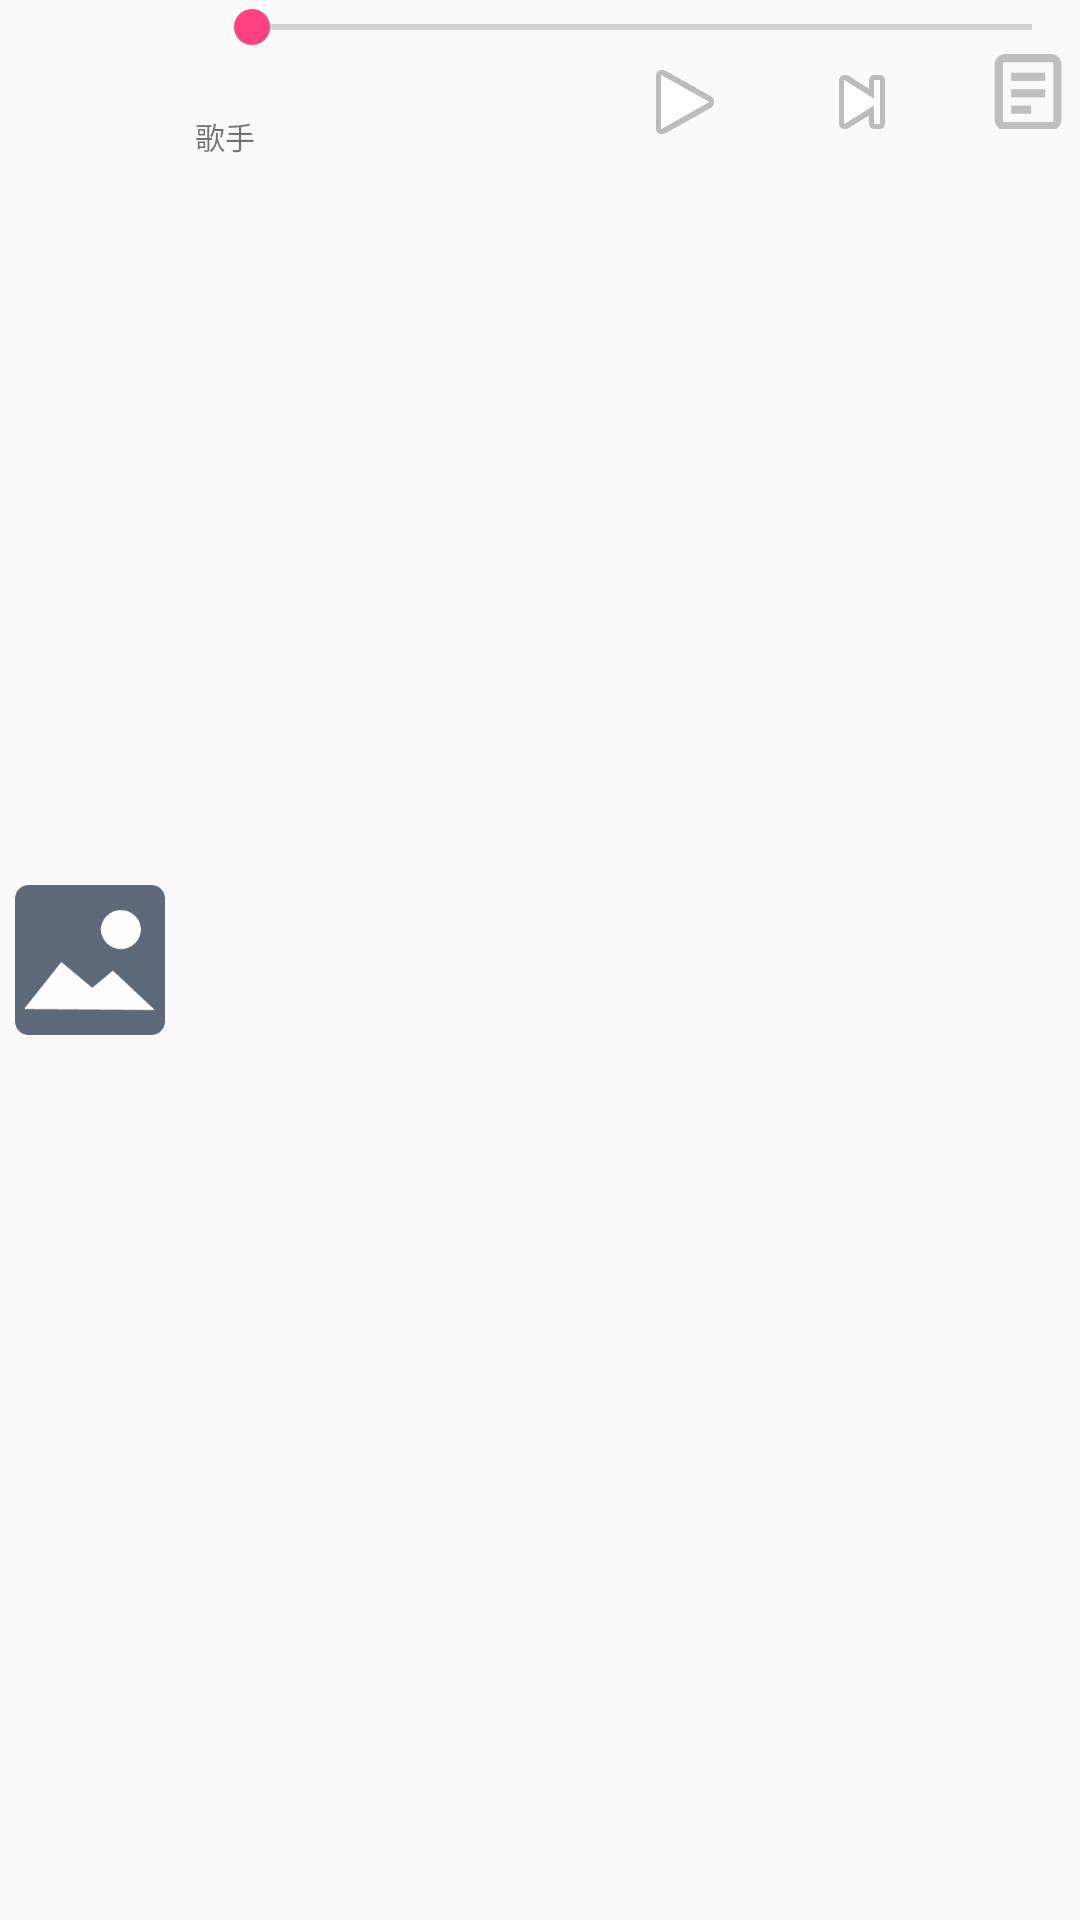

Icon click points for this 1080×1920 phone screenshot, format (x,y):
list: (1028,91)
next: (862,102)
play: (685,102)
